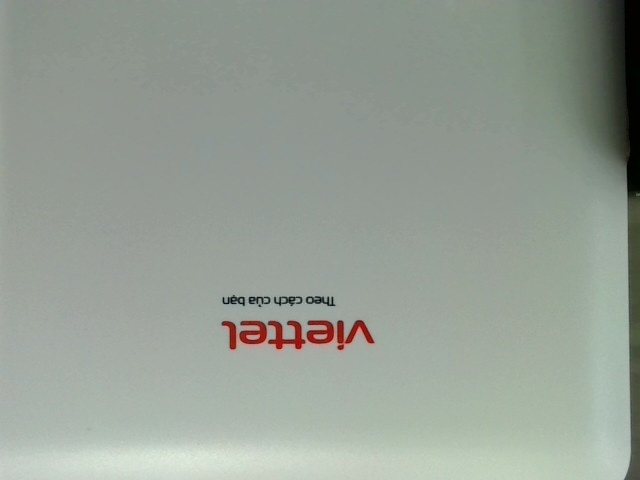AY_Viettel: (217, 292, 378, 355)
